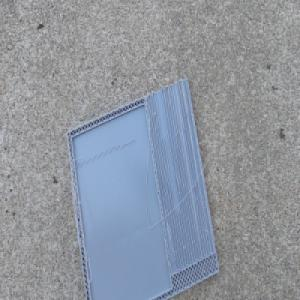PlasticPart: (65, 74, 220, 300)
